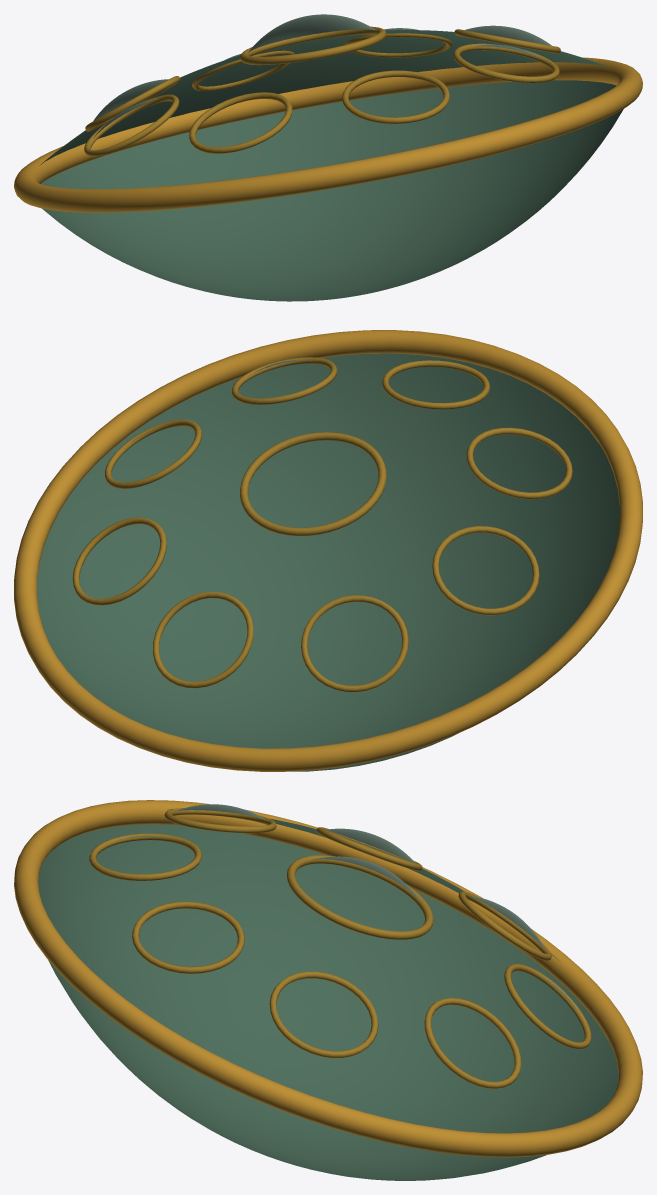
Rendered from zensea-handpan.glb.
3 views of the same model, one above another, from view 1: azimuth 30°, elevation 25°; view 2: azimuth 150°, elevation 25°; view 3: azimuth 270°, elevation 25° (orthographic). The views are drawn at different scales.
Visible parts, largest first — view 1: zensea-handpan; view 2: zensea-handpan; view 3: zensea-handpan.
Boxes of the visible parts, box(x1,y1,x2,y2) form: zensea-handpan: box(14, 14, 642, 301); zensea-handpan: box(14, 330, 642, 771); zensea-handpan: box(14, 800, 642, 1180).
Bounding box in the file's own units: 0.245 × 0.1176 × 0.2314.
